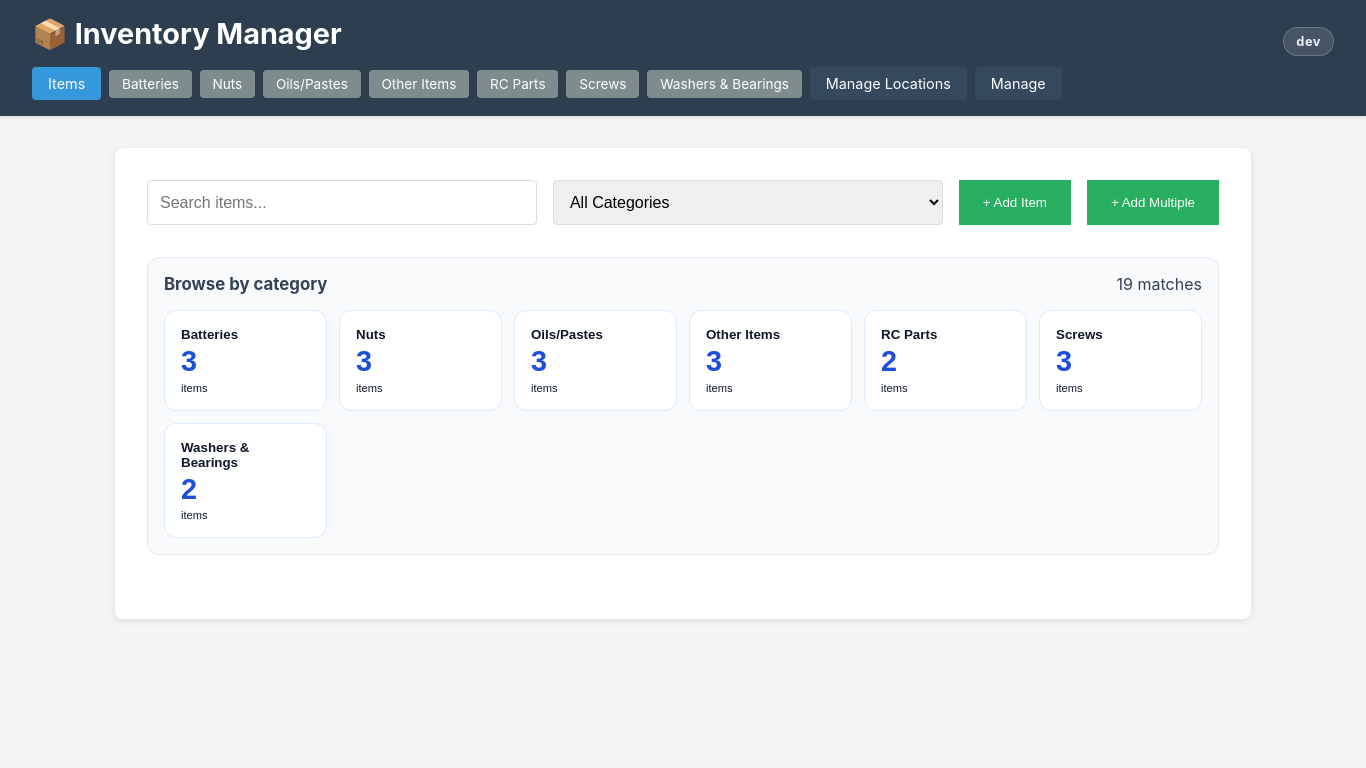
Test case: switching categories in the app › Batteries opens sorted by its default column (Size ↑)
This screenshot has width=1366, height=768.
Click the link "Batteries".
click(151, 84)  # box [109,70,192,98]
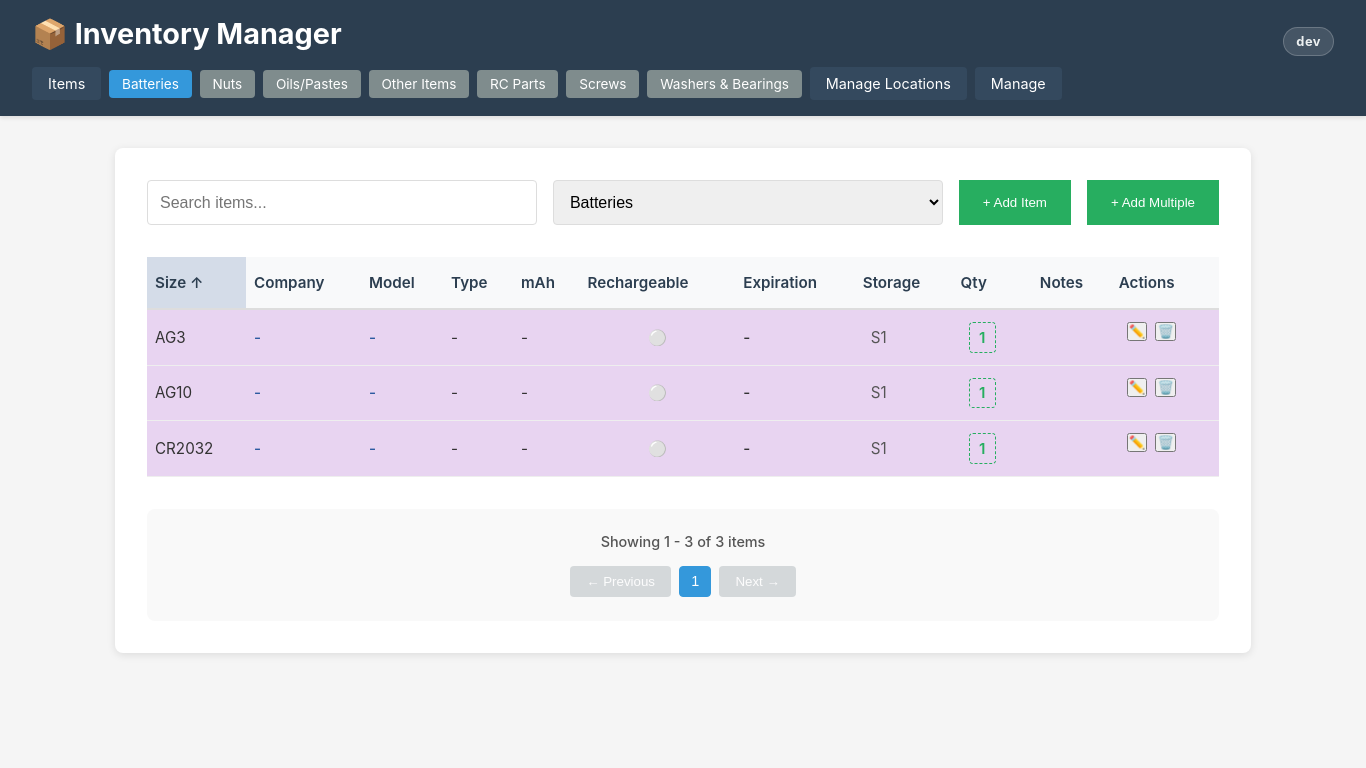
Check: the column heading "Size ↑" is shown, box [147,257,246,309]
